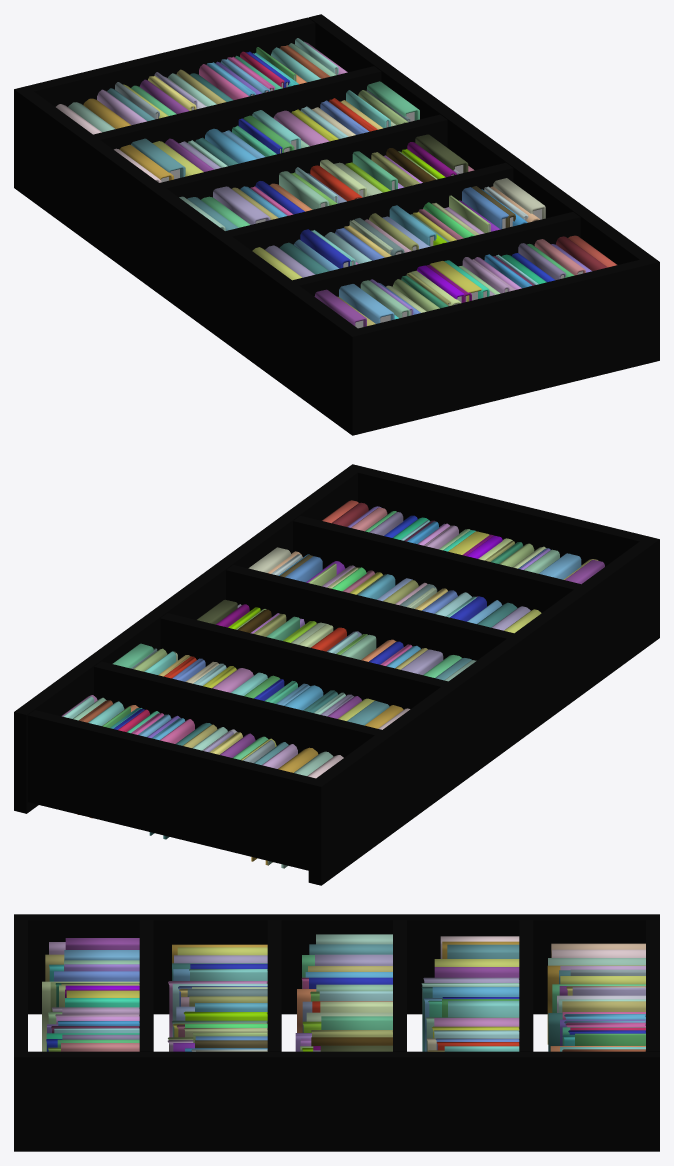
File: book.gltf
3 views of the same model, one above another, from view 1: azimuth 30°, elevation 25°; view 2: azimuth 150°, elevation 25°; view 3: azimuth 270°, elevation 25° (orthographic). The views are drawn at different scales.
Visible parts, largest first — view 1: Cube; view 2: Cube; view 3: Cube.
Boxes of the visible parts, left/top/right/bottom form: Cube: left=14, top=14, right=659, bottom=435; Cube: left=14, top=464, right=659, bottom=885; Cube: left=14, top=914, right=659, bottom=1151.
Bounding box in the file's own units: 24.07 × 7.39 × 45.9.
